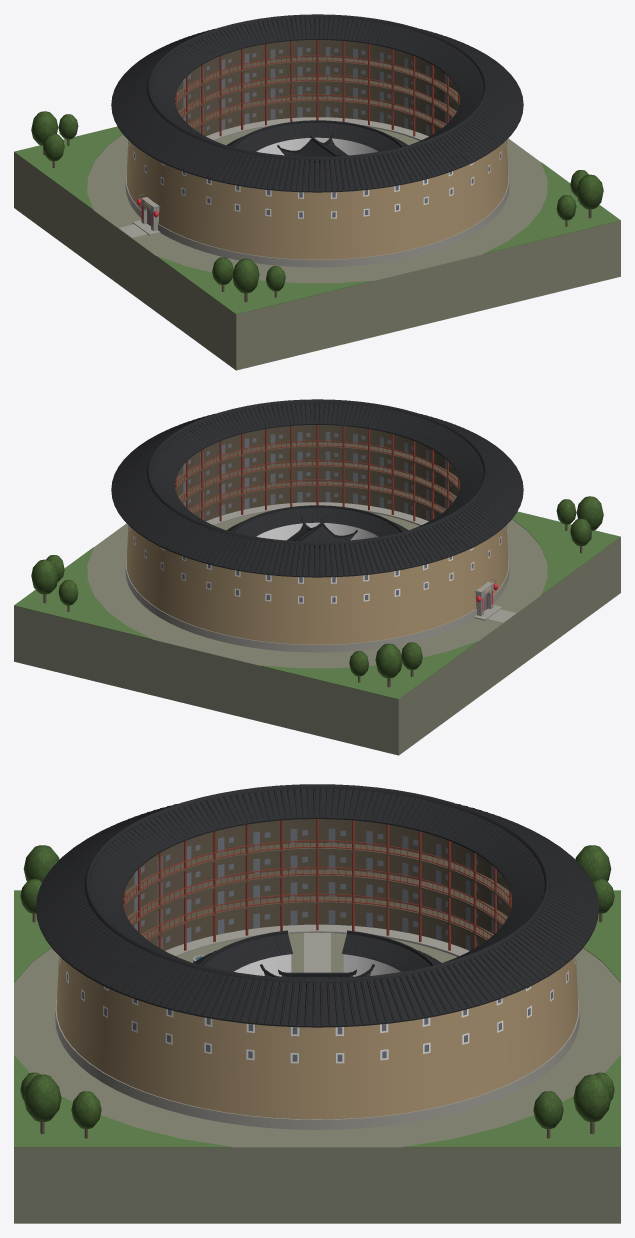
Rendered from top-prebuilt_close.fbx.
3 views of the same model, one above another, from view 1: azimuth 30°, elevation 25°; view 2: azimuth 150°, elevation 25°; view 3: azimuth 270°, elevation 25° (orthographic). The views are drawn at different scales.
Parts seen in each view (by area): view 1: landmark-earthen_roundhouse/0/top-prebuilt_close; view 2: landmark-earthen_roundhouse/0/top-prebuilt_close; view 3: landmark-earthen_roundhouse/0/top-prebuilt_close.
Part boxes in pixels (left/top/right/bottom): landmark-earthen_roundhouse/0/top-prebuilt_close: left=14, top=14, right=620, bottom=370; landmark-earthen_roundhouse/0/top-prebuilt_close: left=14, top=399, right=620, bottom=755; landmark-earthen_roundhouse/0/top-prebuilt_close: left=14, top=784, right=620, bottom=1223.
Size of the model in its own units: 72 by 28 by 72.
